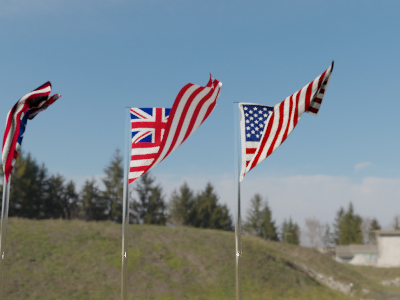America flag: (240, 57, 336, 181)
Liberia flag: (7, 79, 73, 181)
Malaysia flag: (130, 71, 231, 185)
